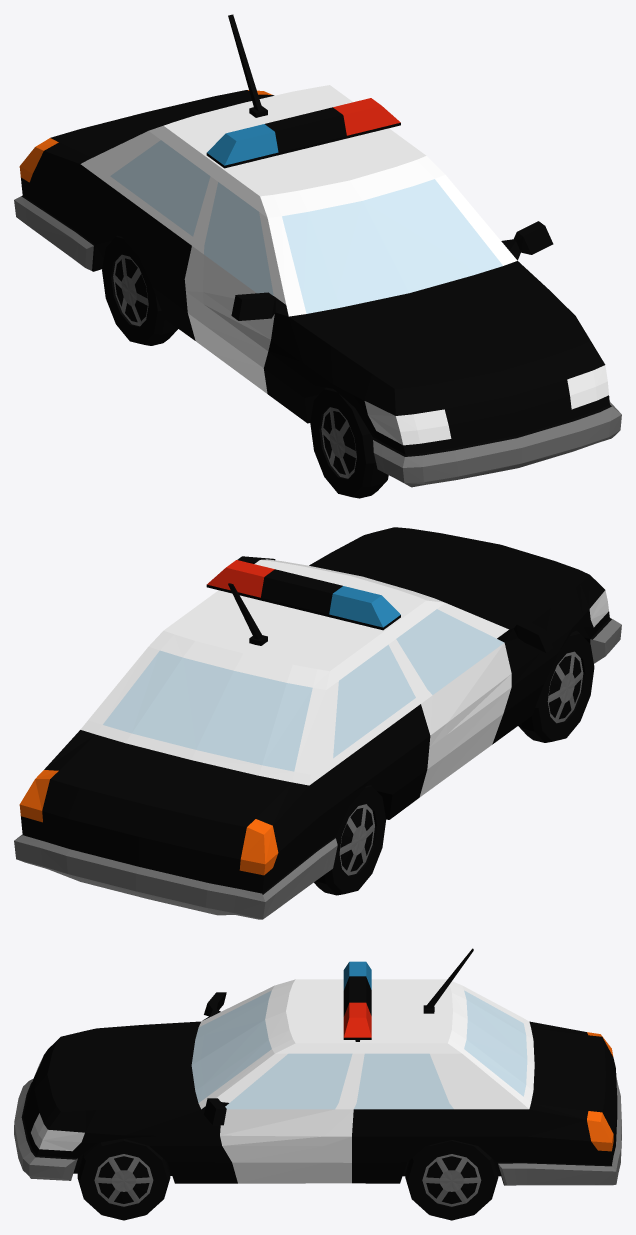
Rendered from police_1.glb.
3 views of the same model, one above another, from view 1: azimuth 30°, elevation 25°; view 2: azimuth 150°, elevation 25°; view 3: azimuth 270°, elevation 25° (orthographic). The views are drawn at different scales.
Visible parts, largest first — view 1: Police_Car; view 2: Police_Car; view 3: Police_Car.
Part boxes in pixels (x1,y1,x2,y2): Police_Car: (14, 14, 621, 498); Police_Car: (14, 527, 621, 919); Police_Car: (14, 948, 621, 1220).
Size of the model in its own units: 52.25 by 46.25 by 111.
1 material, 1 textured.
